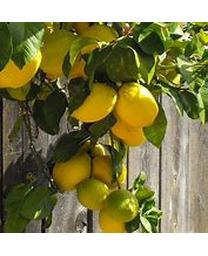lemon: (115, 82, 158, 128), (71, 83, 117, 124), (40, 32, 80, 79), (52, 150, 93, 193), (78, 177, 111, 213), (106, 190, 140, 223)
